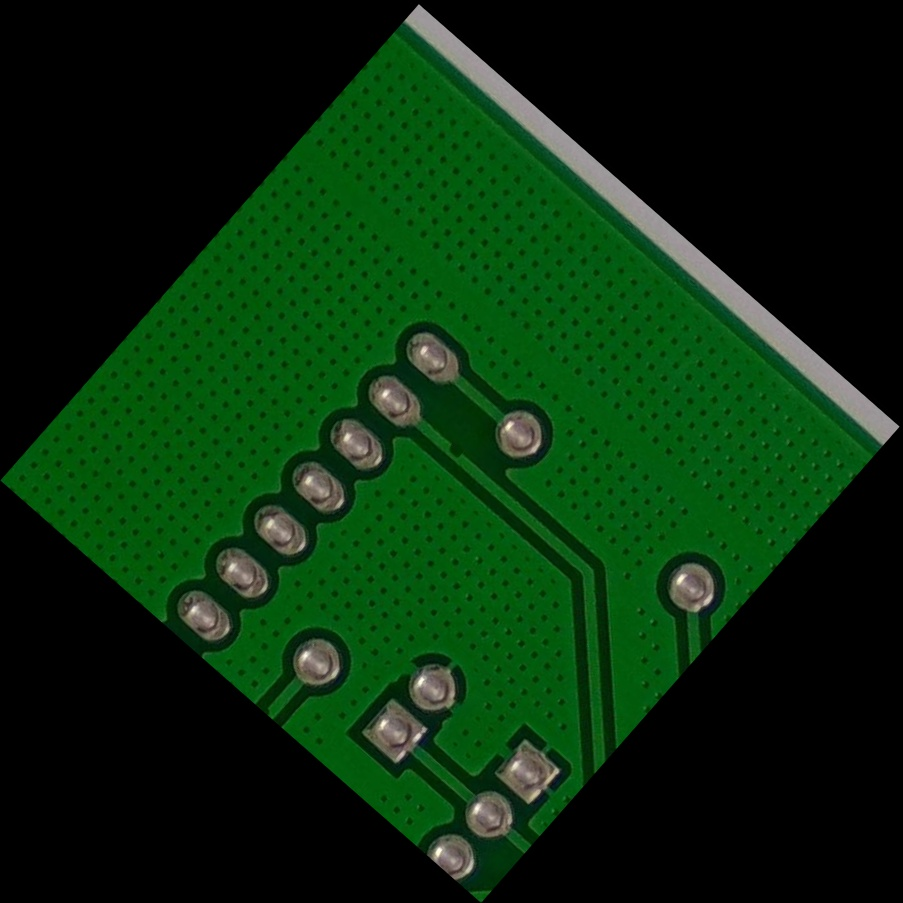mouse_bite: (425, 425, 479, 478)
